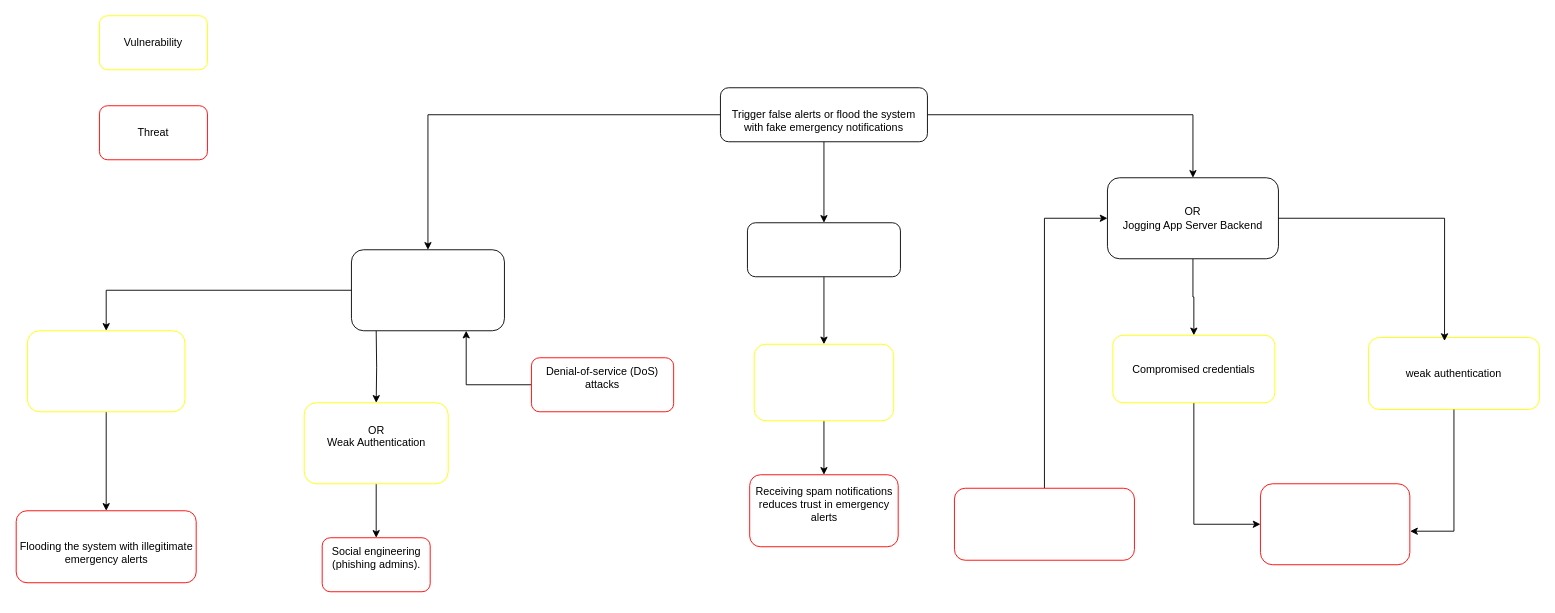
This 1555x613 diagram has some shape labels left out. The shapes that lost their labels are listed below. From the top down, each one's centre as x and y in pixels, then its label:
(x=823, y=249): OR Close Contacts (Notification Recipients
(x=427, y=290): OR Emergency Notification System
(x=106, y=371): No rate limiting or anomaly detection on APIs
(x=823, y=382): Over reliance on a single notification channel (Could be SMS)
(x=1044, y=523): brute force credential attacks to gain API access
(x=1335, y=524): Trigger fake alerts by abusing notification APIs
